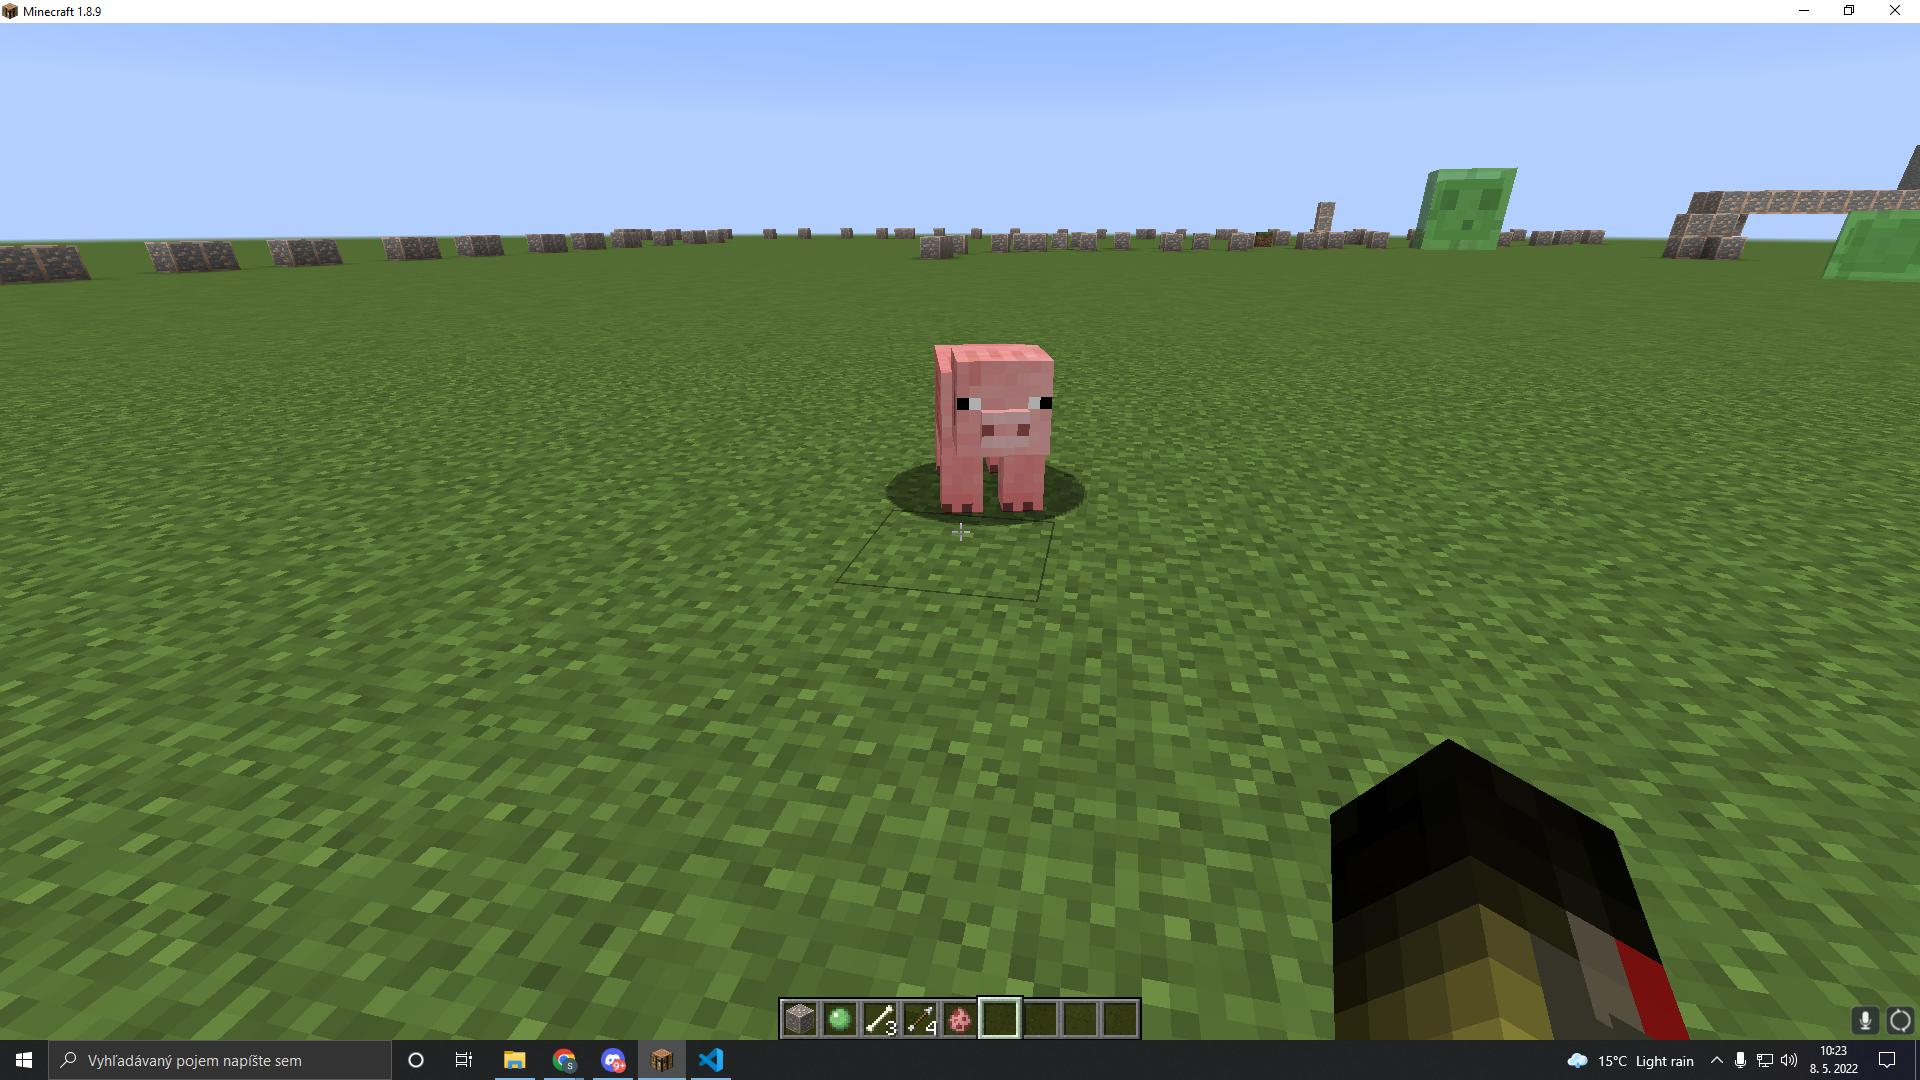pig: (915, 327, 1080, 547)
